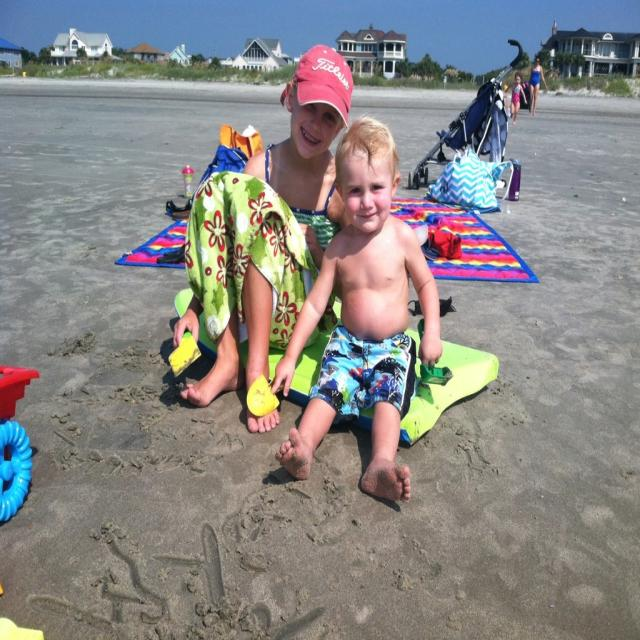Hat: (280, 41, 356, 132)
